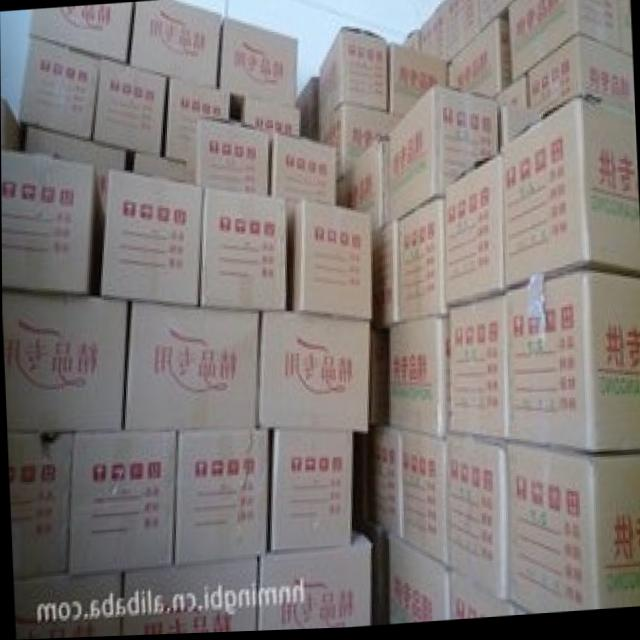box: (500, 99, 639, 294), (505, 273, 640, 459), (504, 440, 640, 618), (2, 289, 131, 432), (122, 302, 260, 430), (64, 430, 174, 575), (1, 148, 104, 296), (385, 90, 498, 224), (99, 170, 203, 308), (255, 310, 371, 433), (172, 429, 271, 569), (256, 516, 371, 633), (132, 102, 270, 197), (268, 431, 367, 554), (200, 190, 293, 310), (286, 200, 373, 326), (120, 558, 257, 637), (445, 436, 505, 603), (23, 127, 135, 215), (442, 155, 506, 308), (506, 0, 618, 85), (8, 431, 72, 579), (523, 38, 634, 123), (18, 33, 101, 141), (445, 296, 506, 440), (126, 0, 222, 91), (219, 15, 297, 121), (385, 319, 448, 442), (93, 58, 168, 158), (12, 575, 121, 640), (314, 29, 388, 124), (392, 199, 448, 322), (397, 431, 445, 570), (316, 104, 400, 182), (30, 2, 135, 64), (445, 11, 515, 102), (385, 534, 451, 627), (165, 80, 229, 162), (269, 132, 338, 208), (388, 32, 446, 119), (337, 139, 388, 233), (445, 570, 527, 623), (364, 428, 401, 543), (496, 79, 543, 153), (362, 519, 387, 628), (440, 0, 481, 65), (373, 224, 396, 326), (369, 325, 389, 428), (243, 102, 298, 134), (295, 73, 319, 143), (417, 7, 442, 63), (1, 96, 26, 149), (479, 0, 513, 31), (616, 0, 632, 59)
